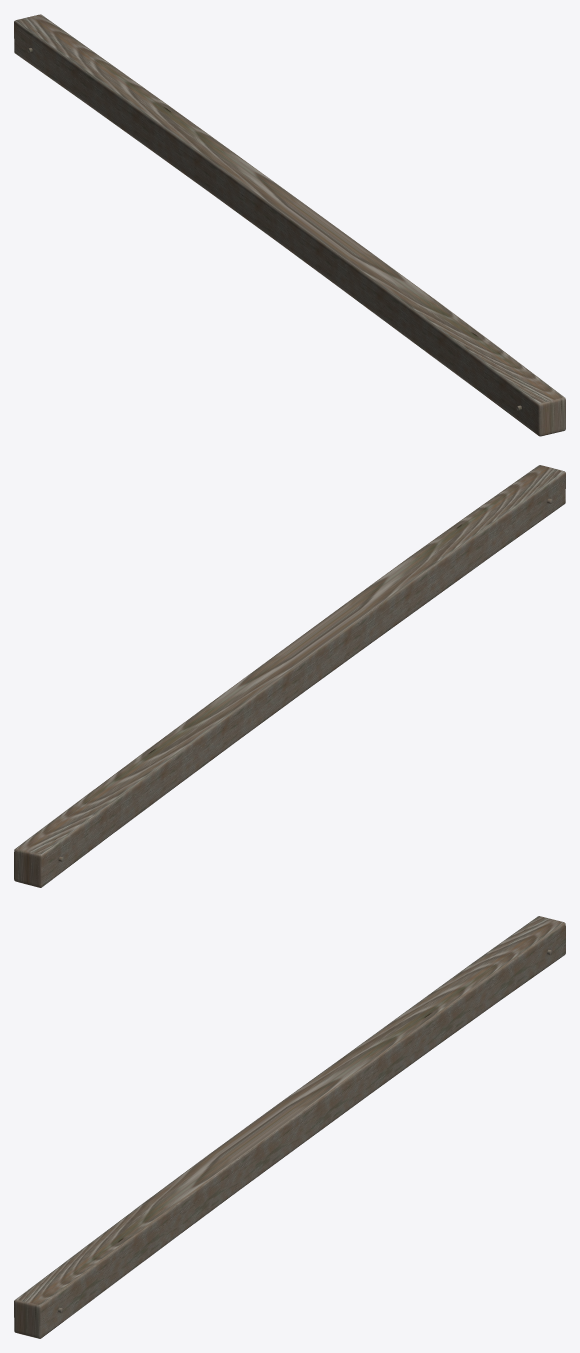
File: tie_beam_8m.glb
3 views of the same model, one above another, from view 1: azimuth 30°, elevation 25°; view 2: azimuth 150°, elevation 25°; view 3: azimuth 330°, elevation 25° (orthographic).
Parts seen in each view (by area): view 1: tie_beam_8m; view 2: tie_beam_8m; view 3: tie_beam_8m.
Part boxes in pixels (x1,y1,x2,y2): tie_beam_8m: (14,14,565,436); tie_beam_8m: (14,465,565,887); tie_beam_8m: (14,916,565,1338).
Bounding box in the file's own units: 0.32 × 0.3316 × 8.6.
1 material, 1 textured.
